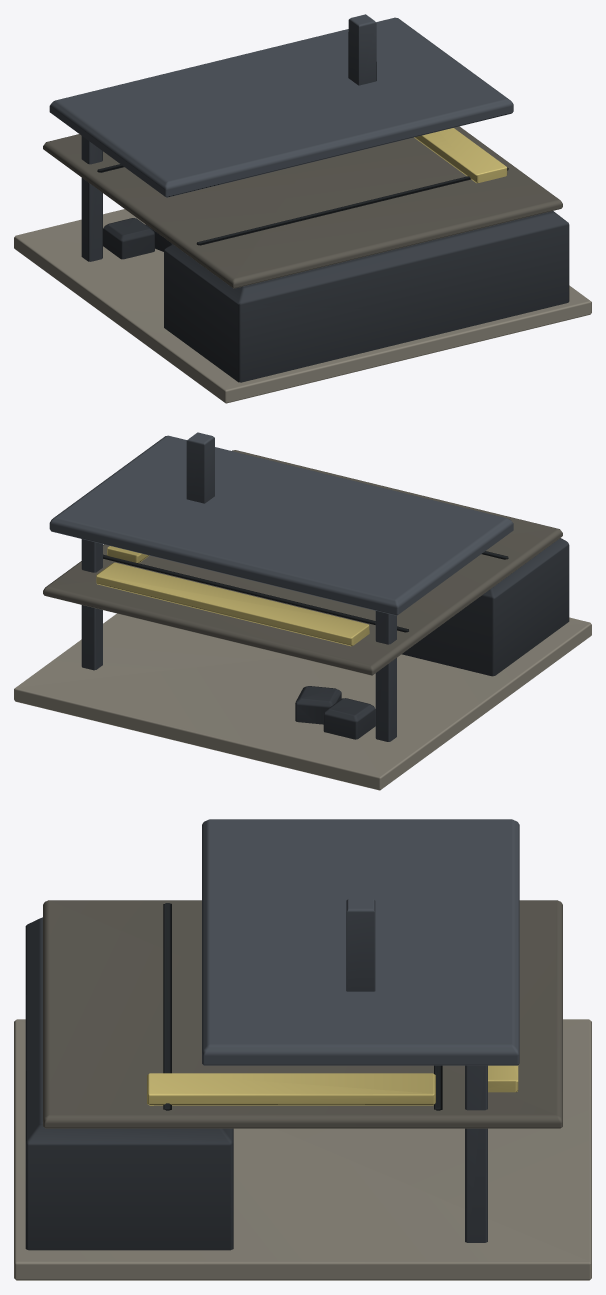
The model's file is repair_depot.glb.
The picture shows the model from 3 angles, top to bottom: view 1: azimuth 30°, elevation 25°; view 2: azimuth 150°, elevation 25°; view 3: azimuth 270°, elevation 25°; orthographic projection. The views are drawn at different scales.
Parts seen in each view (by area): view 1: Body; view 2: Body; view 3: Body.
Part boxes in pixels (x1=…): Body: x1=14, y1=14, x2=591, y2=403; Body: x1=14, y1=432, x2=591, y2=790; Body: x1=14, y1=819, x2=591, y2=1280.
Size of the model in its own units: 6 by 3.55 by 6.
